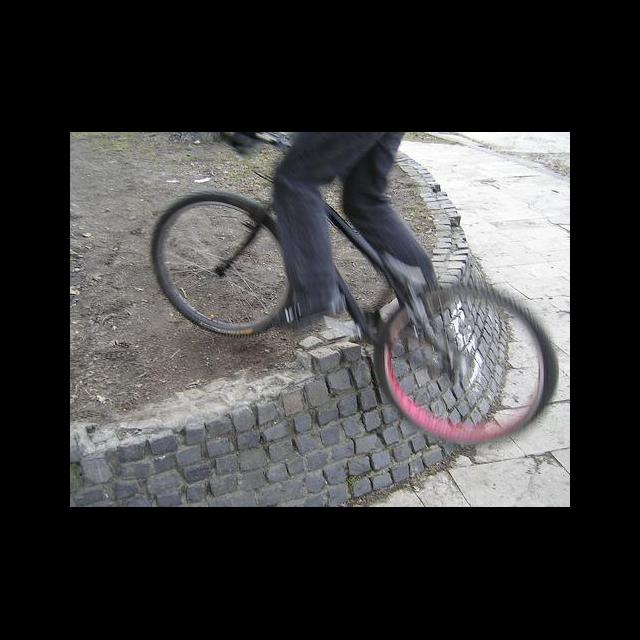Person: (223, 132, 442, 328)
